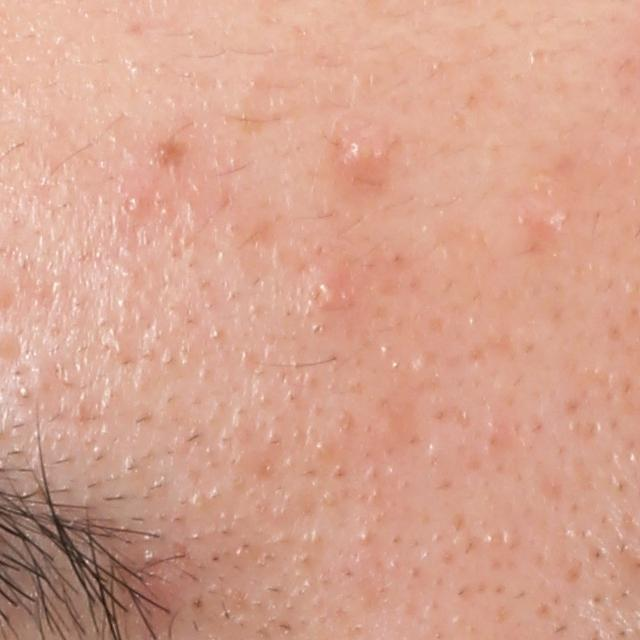papule: (335, 132, 383, 180)
